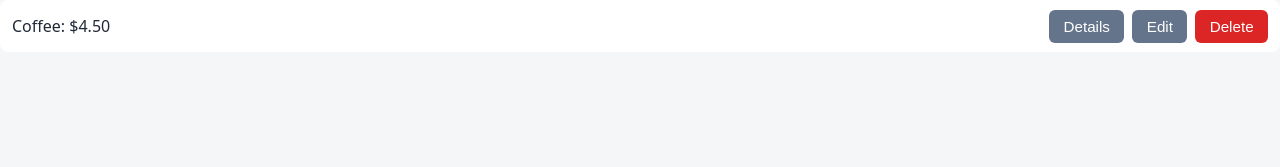
Test: ExpenseItem › hides details until Details is clicked, then toggles them
Expected: the text "Created" is not shown
Click the button "Details" at (1087, 26), box [1049,10,1124,43]
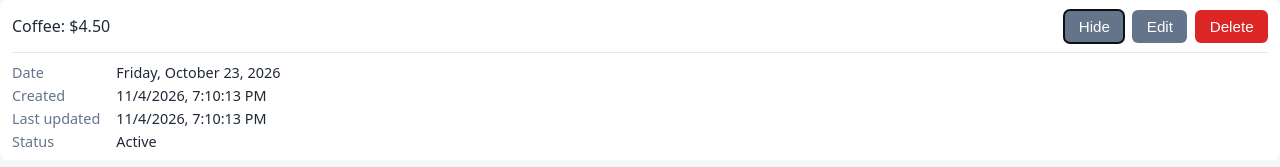
Expected: the text "Created" is shown, [12,86,65,105]
Expected: the text "Active" is shown, [116,132,157,151]
Click the button "Hide" at (1094, 26), box [1064,10,1124,43]
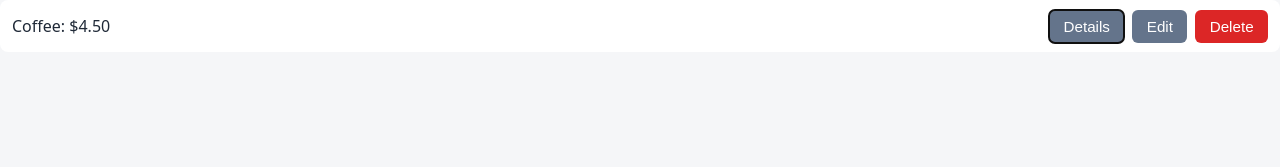
Expected: the text "Created" is gone
